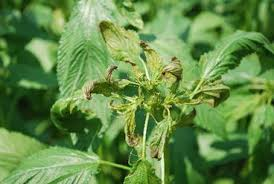damaged_jute: (58, 8, 255, 182)
